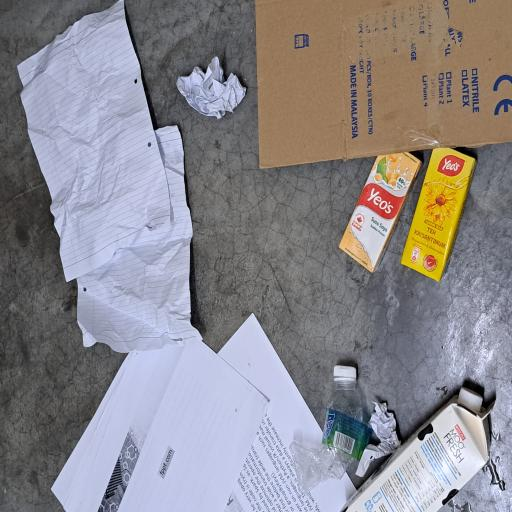cardboard: (255, 338, 384, 512)
drink carton: (180, 452, 271, 512), (0, 459, 95, 512)
paper: (119, 23, 384, 254), (0, 66, 148, 472), (297, 231, 342, 329), (26, 473, 86, 512)
plastic bottle: (18, 385, 113, 478)
plastic bottle cap: (96, 444, 110, 476)
